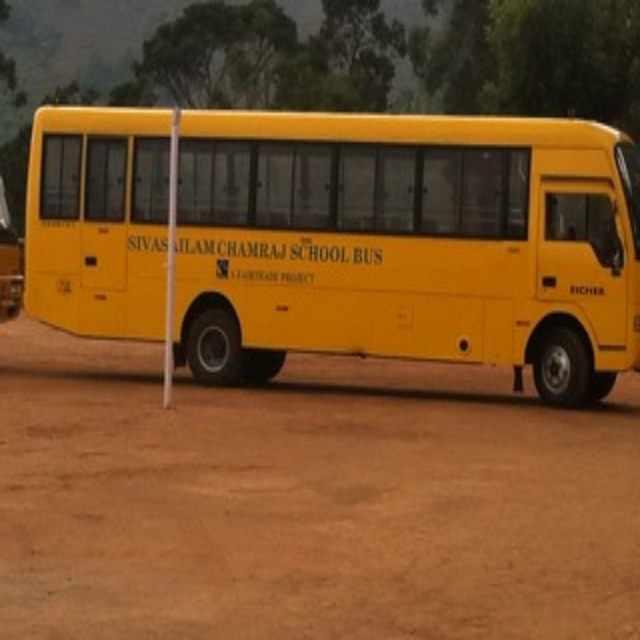Bus: (22, 104, 640, 410)
